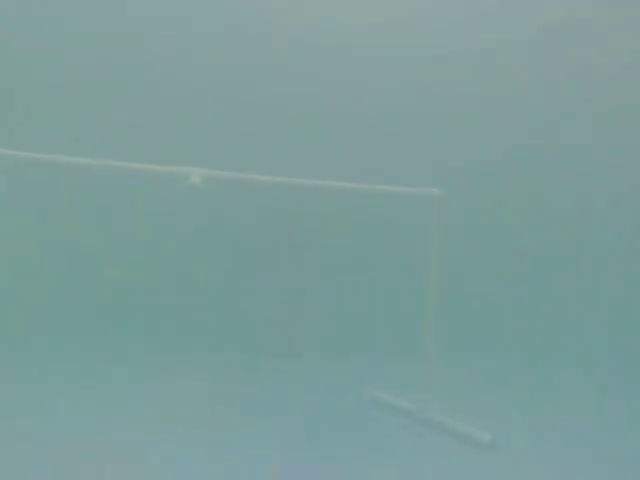gate: (0, 140, 521, 454)
